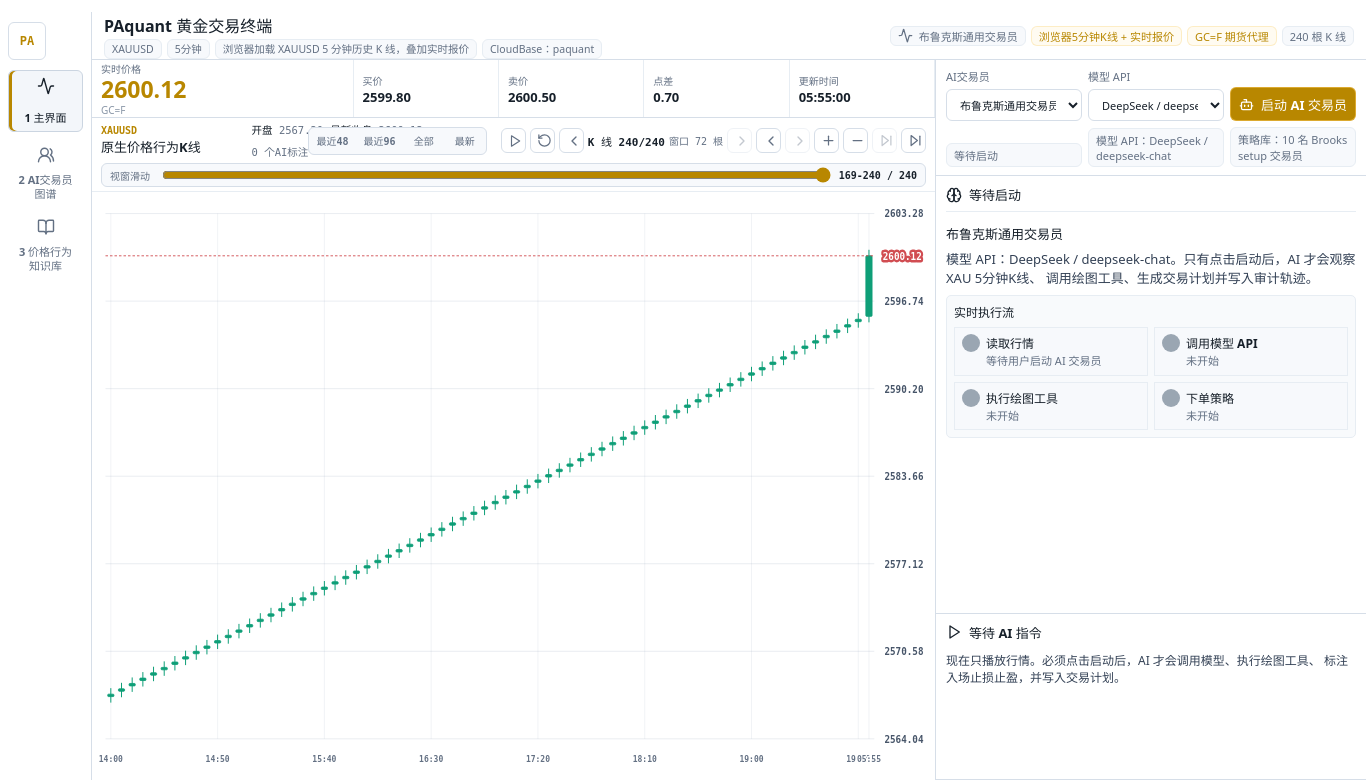
loaded long live history opens at the latest quoted candle
Check: the text with class "replay-counter" shows "240/240", box [588,132,665,148]
Check: the element with class "chart-stats" shows "2600.12", box [378,124,423,136]
Click the button "最近48".
click(332, 140)  # box [310,130,354,152]
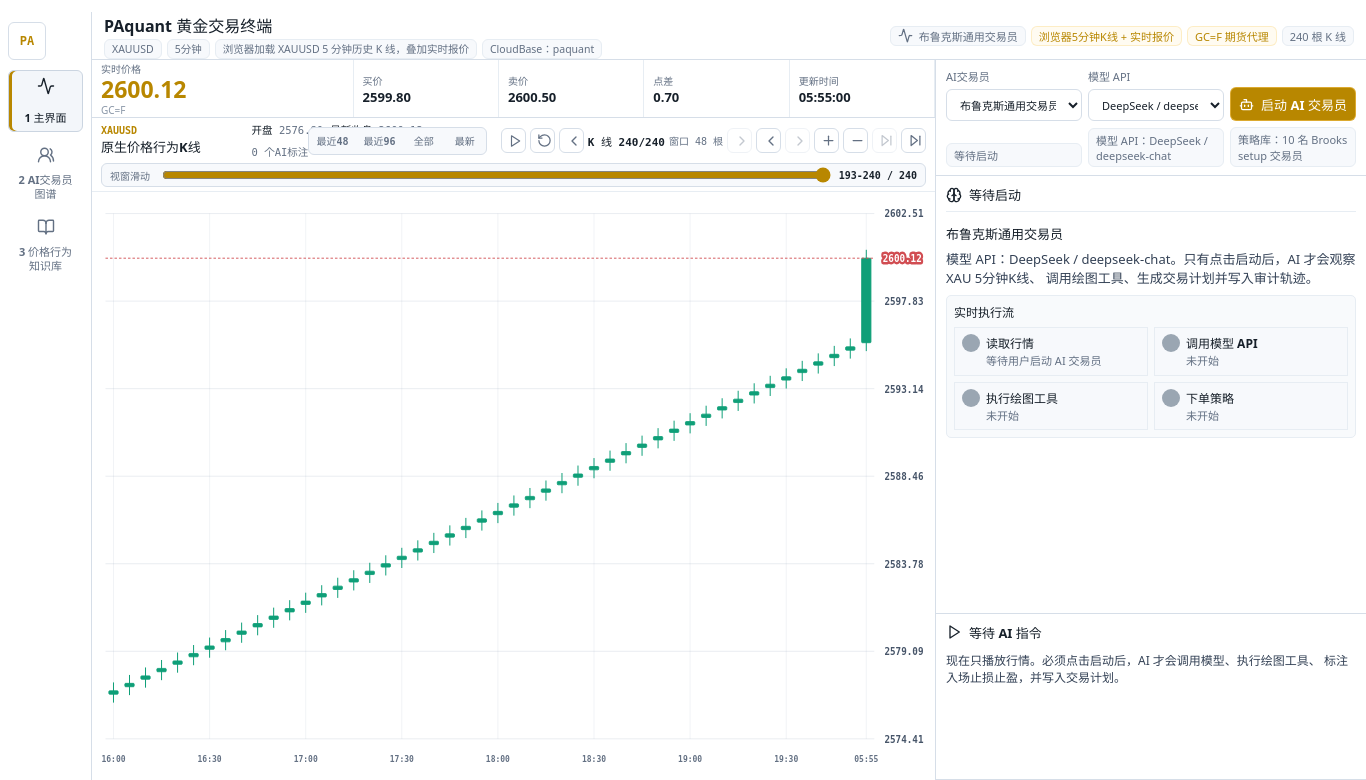
Check: the text with class "replay-counter" shows "240/240", box [588,132,665,148]
Check: the text with class "window-counter" shows "48", box [695,136,707,147]
Click the button "全部".
click(424, 140)  # box [405,130,443,152]
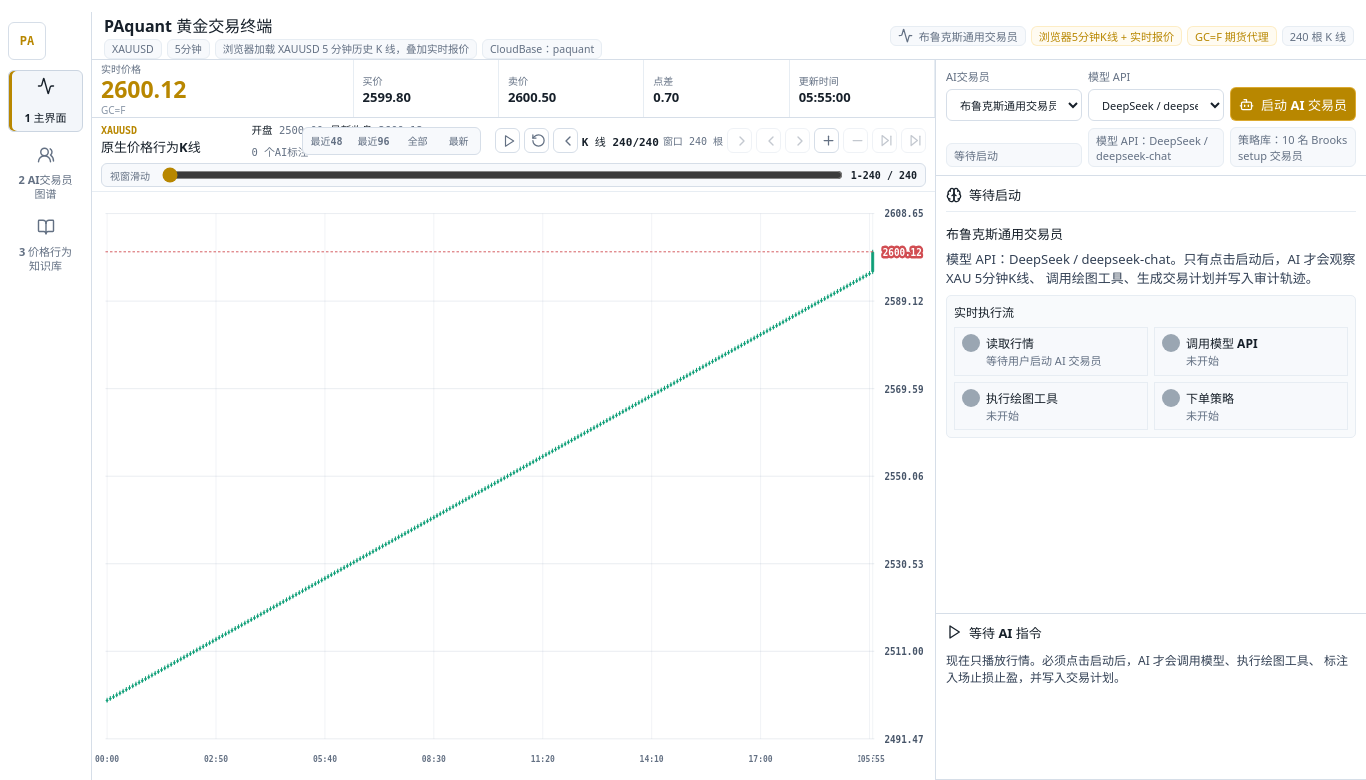
Check: the text with class "window-counter" shows "240", box [689,136,707,147]
Click the button "最新".
click(459, 140)  # box [440,130,478,152]
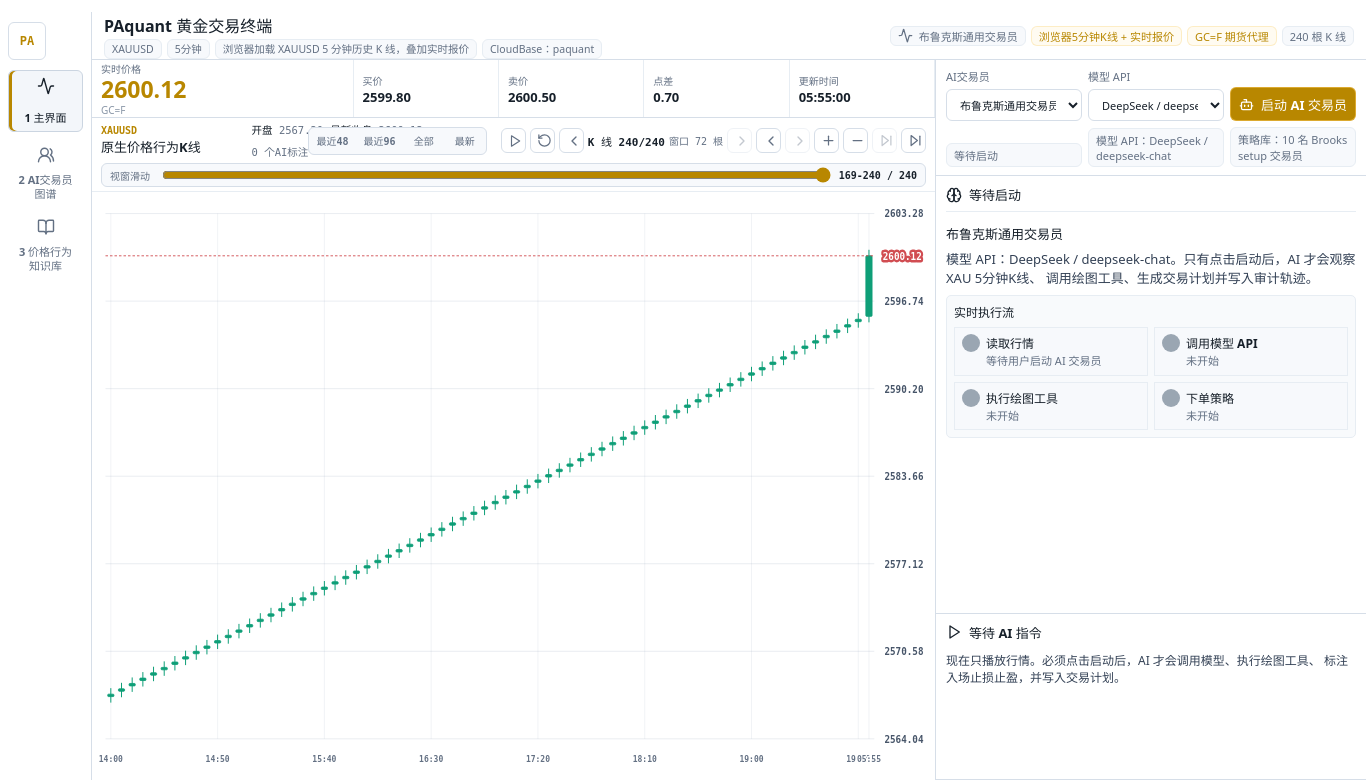
Check: the text with class "replay-counter" shows "240/240", box [588,132,665,148]
Set the slider named "图表视窗滑杆" to "120" at (356, 175), box [162,167,831,183]
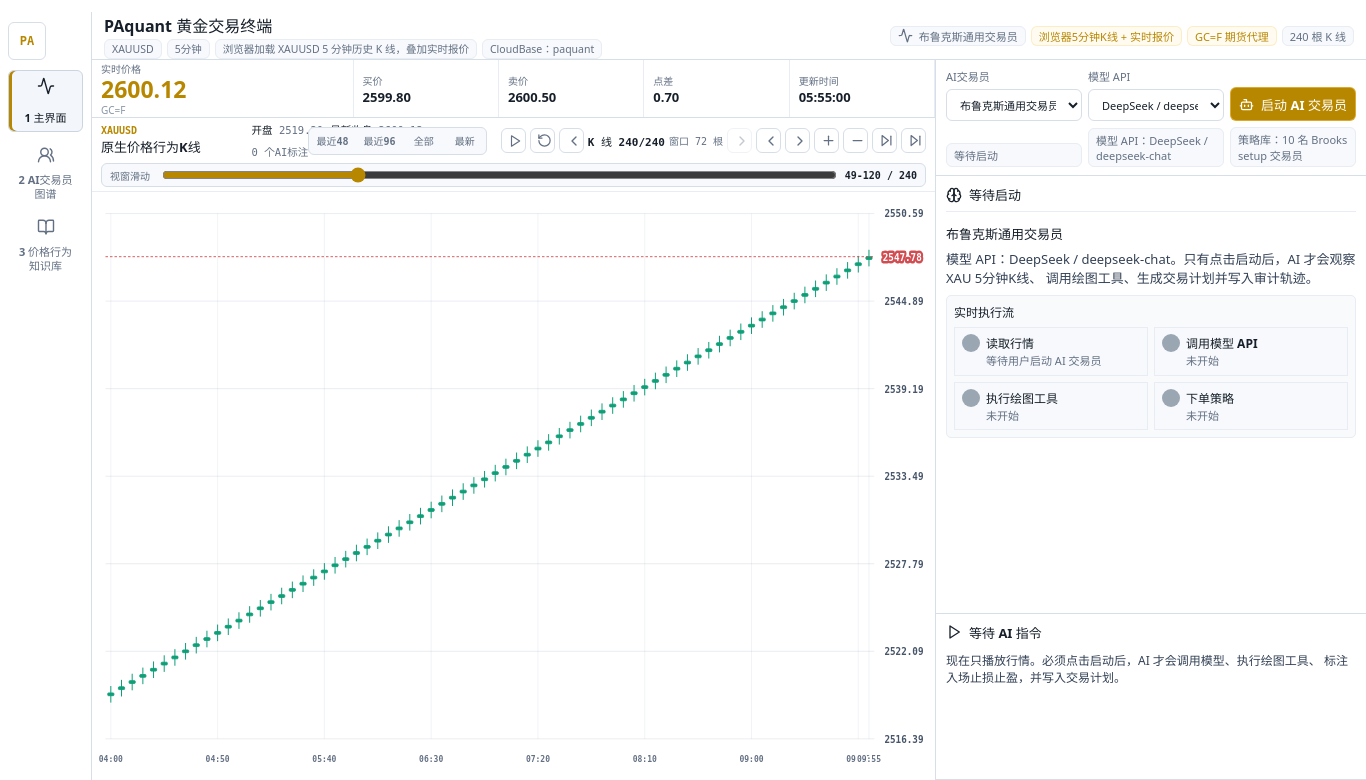
Check: the text with class "replay-counter" shows "240/240", box [588,132,665,148]
Check: the text with class "window-counter" shows "72", box [695,136,707,147]
Check: the element with class "chart-stats" shows "2519.20", box [279,124,323,136]
